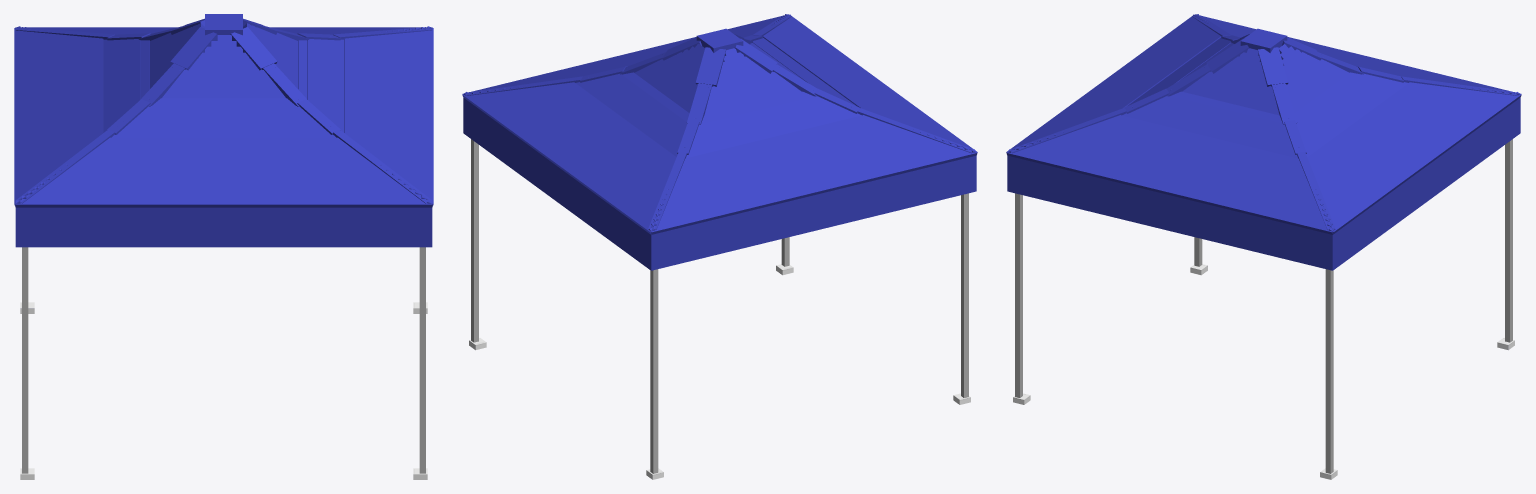
File: tent_blue_y60.obj
3 renders of one model, left to right at view 1: azimuth 30°, elevation 25°; view 2: azimuth 150°, elevation 25°; view 3: azimuth 270°, elevation 25°, orthographic. The views are drawn at different scales.
Visible parts, largest first — view 1: text2, cube1.005, cube2.005, cube3.005, cube4.005, cube5.001, cube6.001, cube7.001, cube8.001, stem1, stem3, cube13.001 (+71 smaller); view 2: text1, text0, cube1.003, stem2, cube1.006, stem1, stem4, cube2.003, cube3.003, cube4.003, cube5, cube6 (+48 smaller); view 3: text3, text0, cube1.004, stem4, cube1.006, stem3, stem2, cube2.004, cube3.004, cube4.004, cube5.000, cube6.000 (+48 smaller).
Boxes of the visible parts, left/top/right/bottom form: text2: left=15, top=207, right=432, bottom=247; cube1.005: left=15, top=200, right=432, bottom=207; cube2.005: left=22, top=196, right=425, bottom=200; cube3.005: left=28, top=191, right=419, bottom=195; cube4.005: left=34, top=187, right=413, bottom=191; cube5.001: left=41, top=182, right=406, bottom=186; cube6.001: left=47, top=178, right=400, bottom=182; cube7.001: left=53, top=173, right=394, bottom=177; cube8.001: left=60, top=169, right=387, bottom=173; stem1: left=22, top=247, right=28, bottom=473; stem3: left=419, top=247, right=425, bottom=473; cube13.001: left=92, top=146, right=355, bottom=151; text1: left=656, top=157, right=971, bottom=269; text0: left=463, top=98, right=655, bottom=270; cube1.003: left=649, top=149, right=977, bottom=234; stem2: left=650, top=269, right=658, bottom=473; cube1.006: left=462, top=92, right=654, bottom=234; stem1: left=961, top=193, right=968, bottom=397; stem4: left=471, top=139, right=478, bottom=342; cube2.003: left=651, top=146, right=969, bottom=227; cube3.003: left=653, top=144, right=961, bottom=222; cube4.003: left=656, top=141, right=953, bottom=216; cube5: left=658, top=139, right=945, bottom=211; cube6: left=660, top=136, right=937, bottom=206; text3: left=1012, top=157, right=1327, bottom=269; text0: left=1328, top=98, right=1520, bottom=270; cube1.004: left=1006, top=149, right=1334, bottom=234; stem4: left=1325, top=269, right=1333, bottom=473; cube1.006: left=1328, top=92, right=1521, bottom=235; stem3: left=1015, top=193, right=1022, bottom=397; stem2: left=1505, top=139, right=1512, bottom=342; cube2.004: left=1014, top=146, right=1332, bottom=227; cube3.004: left=1022, top=144, right=1330, bottom=222; cube4.004: left=1030, top=141, right=1327, bottom=216; cube5.000: left=1038, top=139, right=1325, bottom=211; cube6.000: left=1046, top=136, right=1323, bottom=206.
Size of the model in its own units: 5.09 by 3.66 by 5.09.
